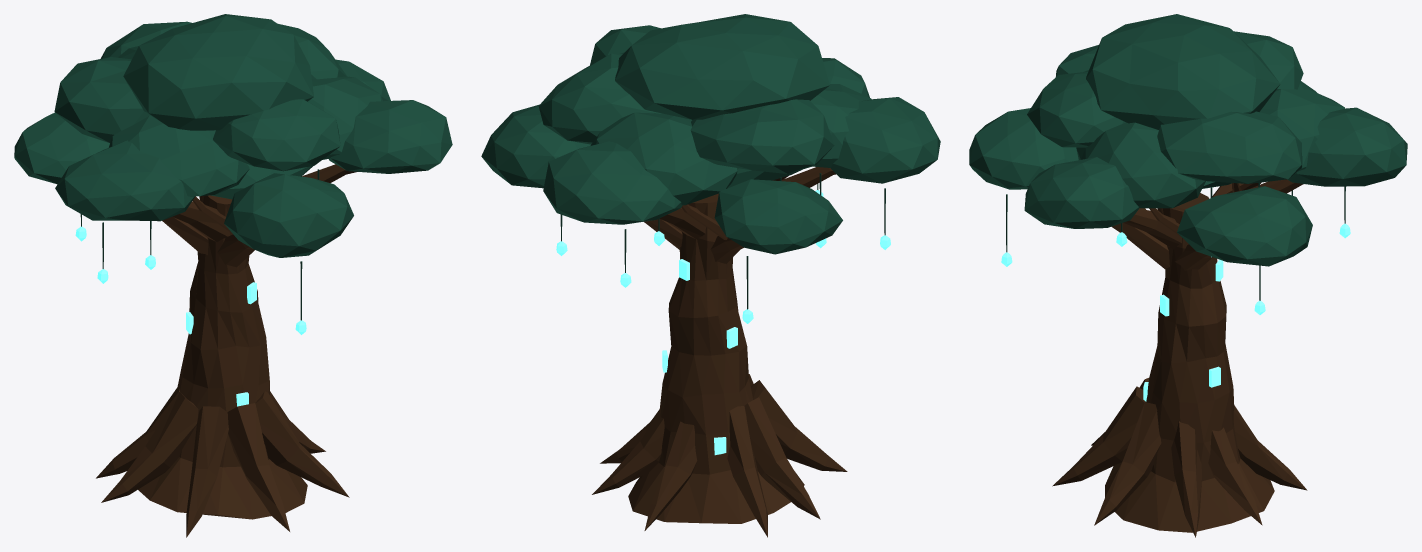
The model's file is arbol_madre.fbx.
3 renders of one model, left to right at view 1: azimuth 30°, elevation 25°; view 2: azimuth 150°, elevation 25°; view 3: azimuth 270°, elevation 25°, orthographic. The views are drawn at different scales.
Visible parts, largest first — view 1: arbol_madre; view 2: arbol_madre; view 3: arbol_madre.
Part boxes in pixels (x1,y1,x2,y2): arbol_madre: (14,14,452,537); arbol_madre: (481,14,940,537); arbol_madre: (969,14,1407,537).
Size of the model in its own units: 25.57 by 30.05 by 26.14.
